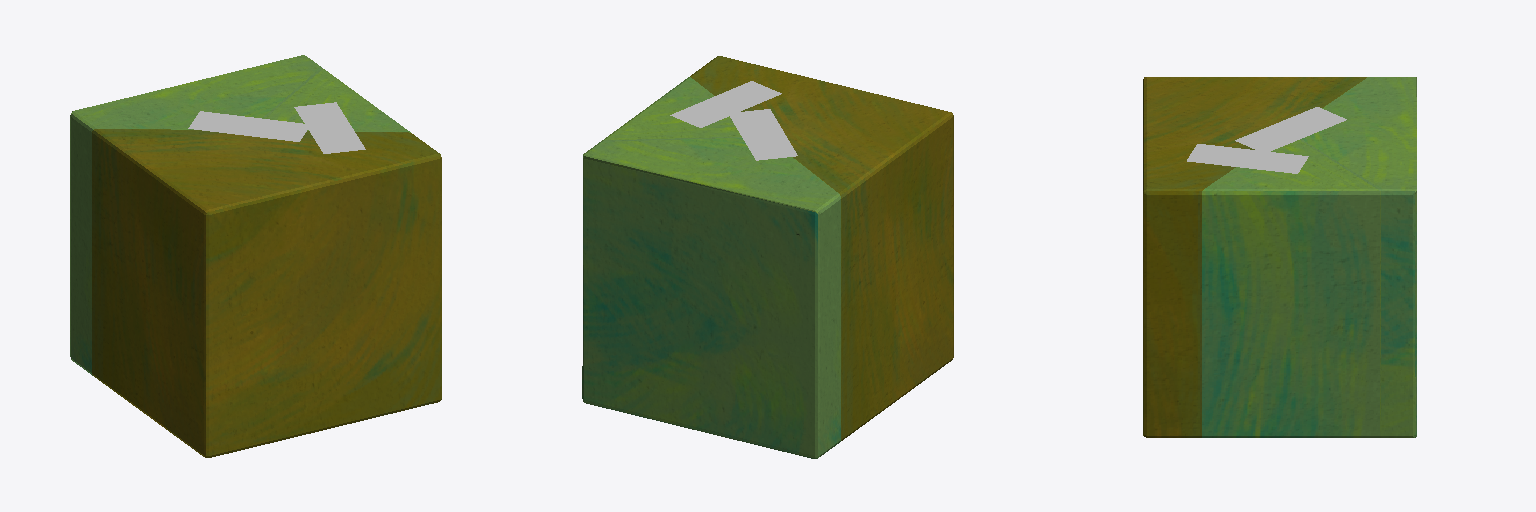
3 renders of one model, left to right at view 1: azimuth 30°, elevation 25°; view 2: azimuth 150°, elevation 25°; view 3: azimuth 270°, elevation 25°, orthographic.
Parts seen in each view (by area): view 1: FOREST_GROUND_005; view 2: FOREST_GROUND_005; view 3: FOREST_GROUND_005.
Boxes of the visible parts, x1=… form: FOREST_GROUND_005: x1=70, y1=55, x2=441, y2=457; FOREST_GROUND_005: x1=582, y1=56, x2=953, y2=458; FOREST_GROUND_005: x1=1143, y1=77, x2=1416, y2=437.
Bounding box in the file's own units: 1 × 1.01 × 1.
3 materials, 2 textured.